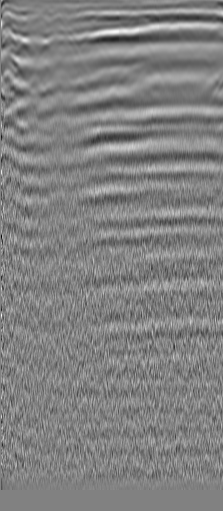오수: (29, 14, 49, 34)
우수: (175, 22, 195, 42)
